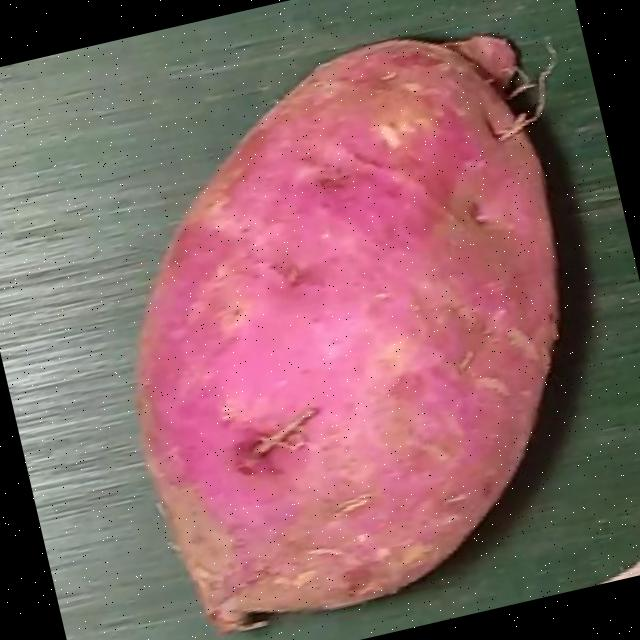Sweet Potato: (134, 30, 559, 631)
